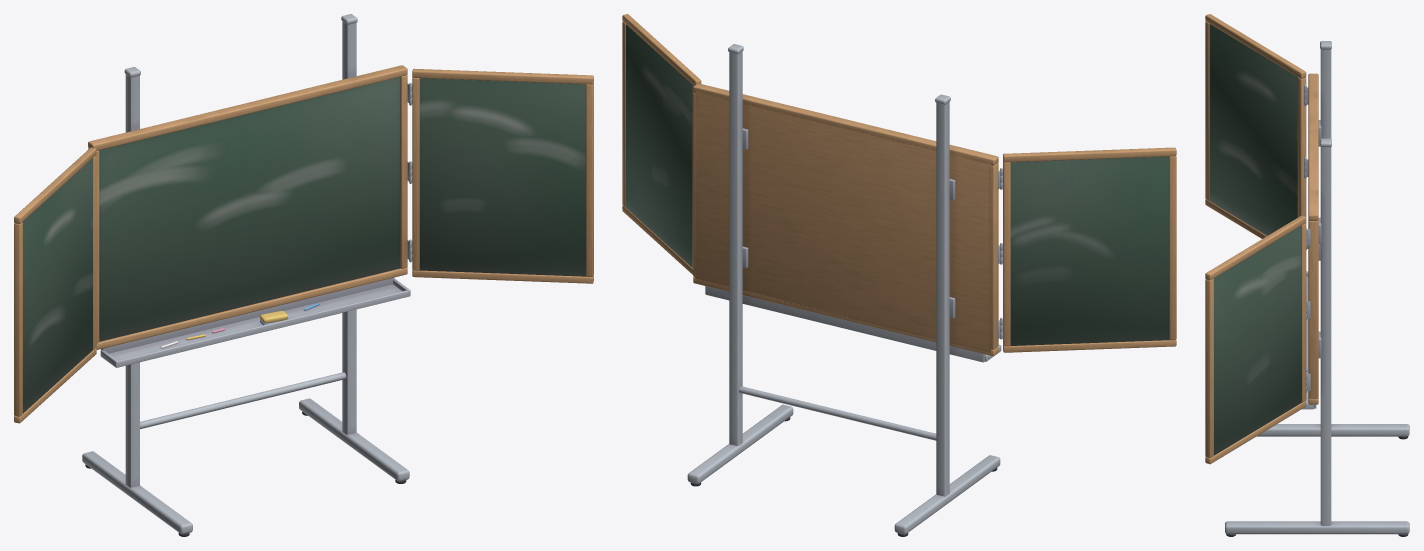
Rendered from chalkboard.glb.
The picture shows the model from 3 angles, left to right: view 1: azimuth 30°, elevation 25°; view 2: azimuth 150°, elevation 25°; view 3: azimuth 270°, elevation 25°; orthographic projection. The views are drawn at different scales.
Parts seen in each view (by area): view 1: chalkboard_body, chalkboard_wing_right, chalkboard_wing_left; view 2: chalkboard_body, chalkboard_wing_left, chalkboard_wing_right; view 3: chalkboard_wing_right, chalkboard_wing_left, chalkboard_body.
Boxes of the visible parts, x1,y1,x2,y2 form: chalkboard_body: (82, 14, 412, 536); chalkboard_wing_right: (412, 68, 593, 283); chalkboard_wing_left: (14, 147, 96, 423); chalkboard_body: (687, 44, 1002, 536); chalkboard_wing_left: (1003, 147, 1176, 352); chalkboard_wing_right: (622, 14, 701, 274); chalkboard_wing_right: (1205, 215, 1306, 464); chalkboard_wing_left: (1205, 14, 1306, 238); chalkboard_body: (1225, 41, 1409, 536).
Bounding box in the file's own units: 2.94 × 2.08 × 0.973.
Materials: 3 (3 with a texture image).
